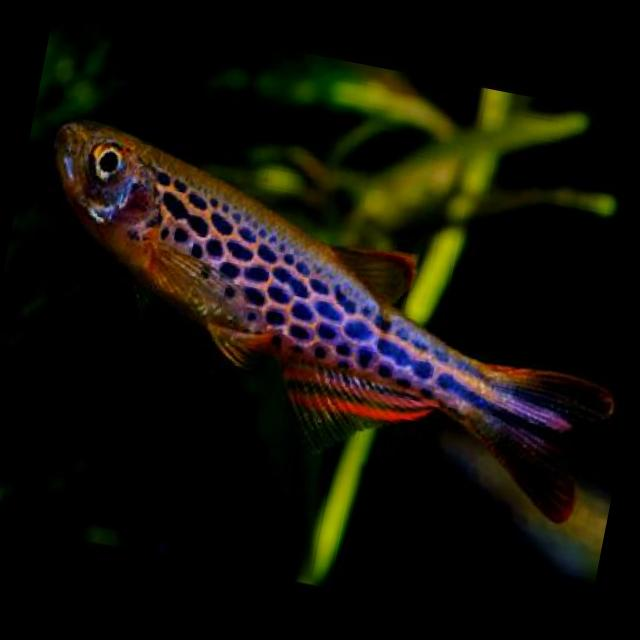ZebraFish: (0, 109, 640, 536)
